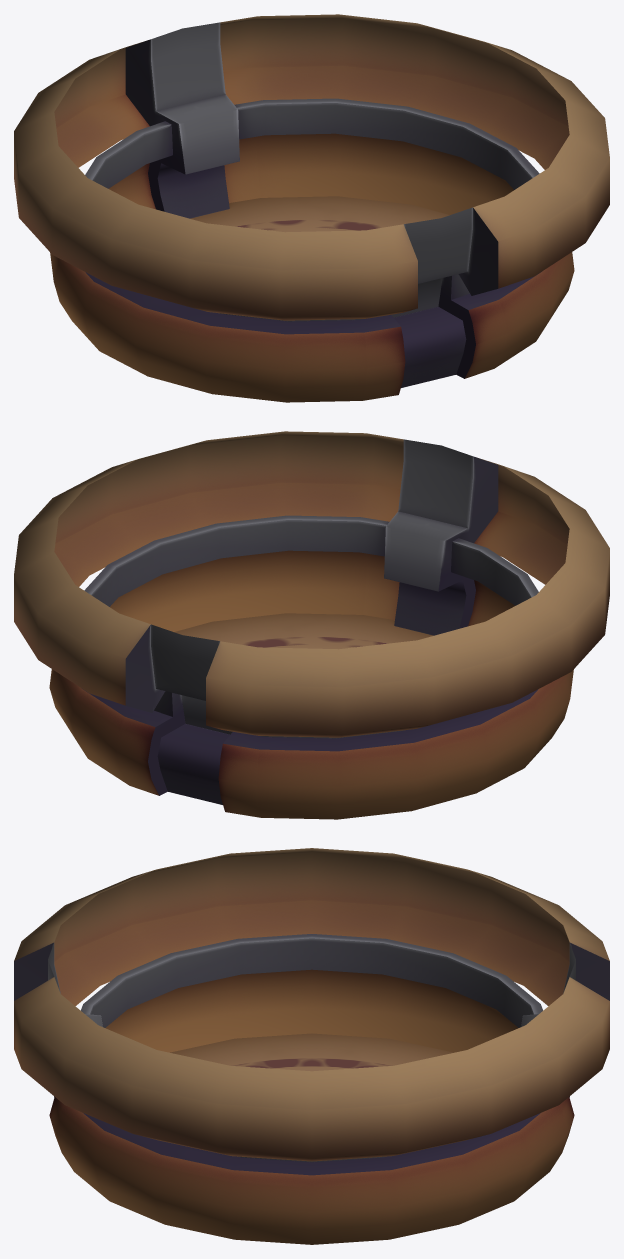
Rendered from DND_Arena.fbx.
The picture shows the model from 3 angles, top to bottom: view 1: azimuth 30°, elevation 25°; view 2: azimuth 150°, elevation 25°; view 3: azimuth 270°, elevation 25°; orthographic projection.
Parts seen in each view (by area): view 1: Arena; view 2: Arena; view 3: Arena.
Part boxes in pixels (x1,y1,x2,y2): Arena: (14,14,609,402); Arena: (14,431,609,819); Arena: (14,848,609,1244).
Size of the model in its own units: 2914 by 945 by 2843.
